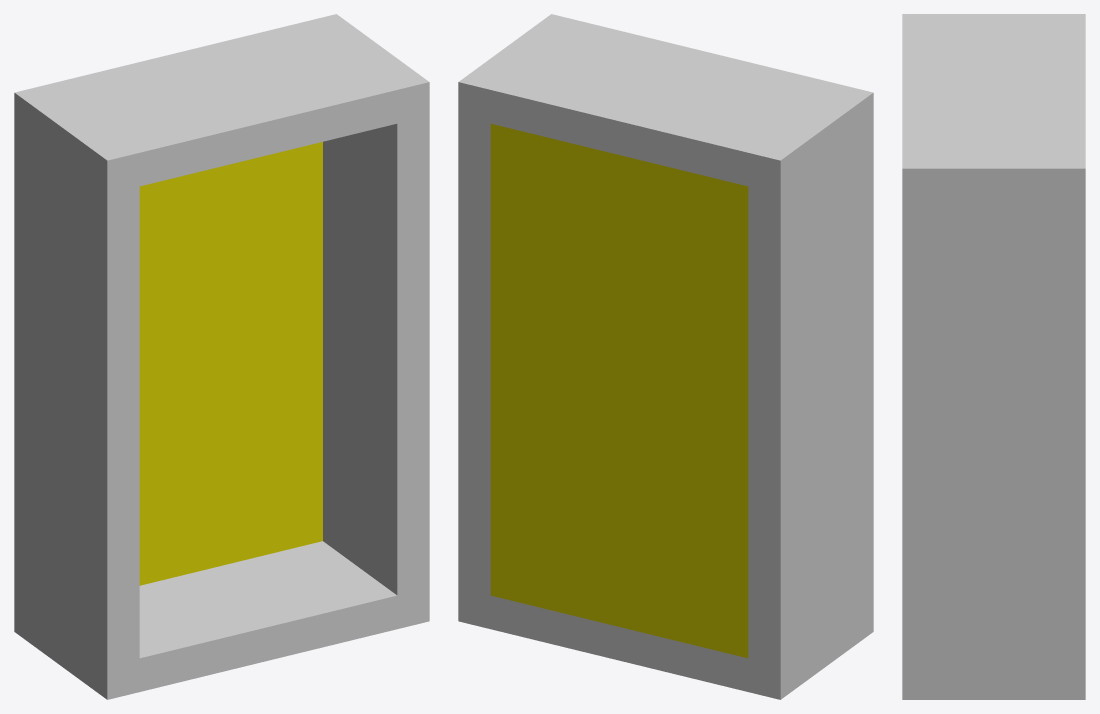
Rendered from StageFrame.fbx.
3 views of the same model, side by side, from view 1: azimuth 30°, elevation 25°; view 2: azimuth 150°, elevation 25°; view 3: azimuth 270°, elevation 25° (orthographic).
Parts seen in each view (by area): view 1: pCube6; view 2: pCube6; view 3: pCube6.
Part boxes in pixels (<box>): pCube6: <box>14,14,429,699</box>; pCube6: <box>458,14,873,699</box>; pCube6: <box>902,14,1085,699</box>.
Size of the model in its own units: 10 by 16 by 5.
